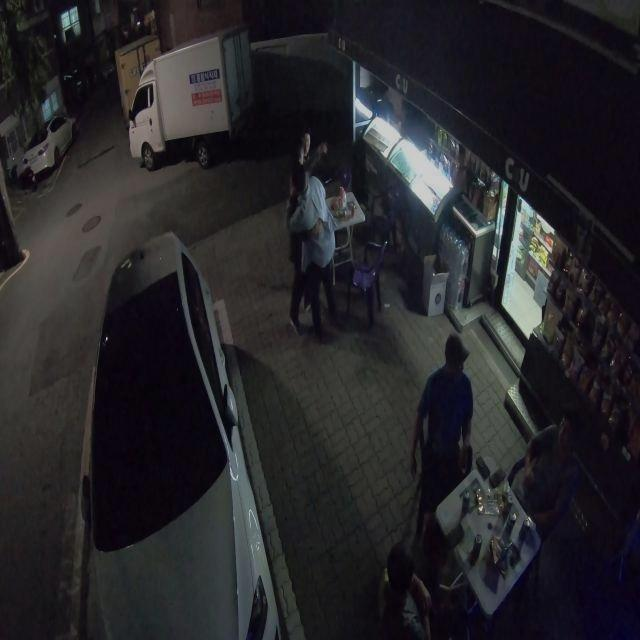fight: (282, 130, 341, 338)
non-fight: (409, 332, 477, 516), (505, 400, 587, 532)
